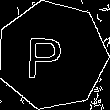P_N: (33, 29, 72, 81)
